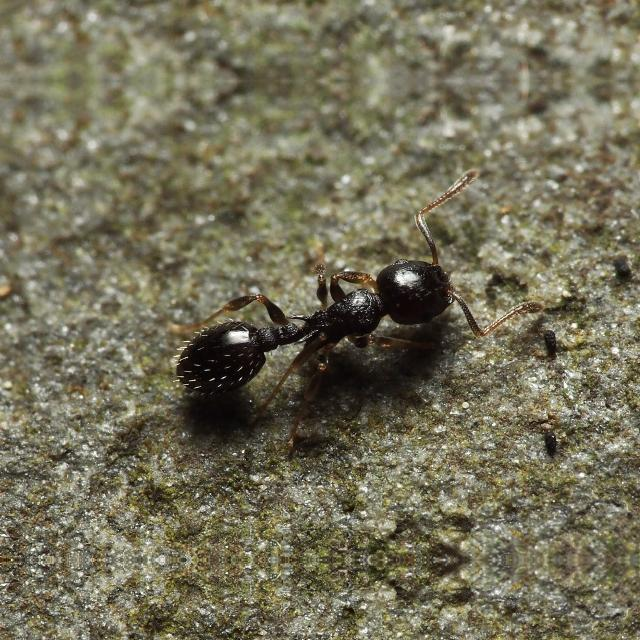Temnothorax: (135, 198, 529, 428)
